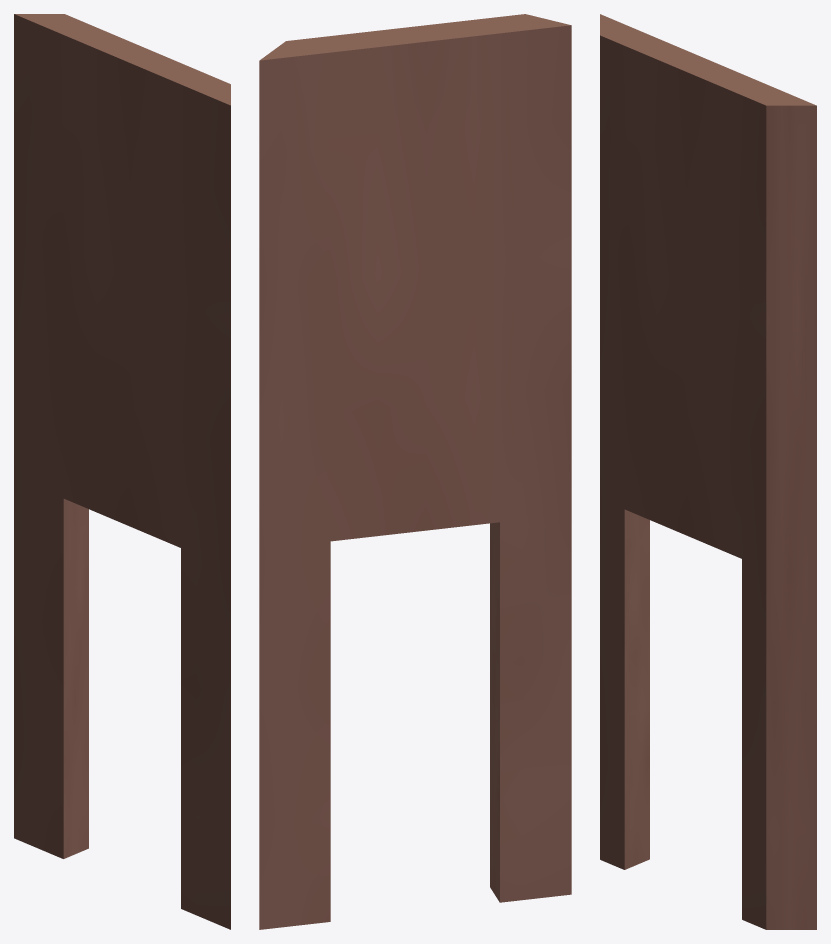
File: SM_Pub_Wall_DoorFrame.fbx
The picture shows the model from 3 angles, left to right: view 1: azimuth 90°, elevation 25°; view 2: azimuth 150°, elevation 25°; view 3: azimuth 270°, elevation 25°; orthographic projection. The views are drawn at different scales.
Parts seen in each view (by area): view 1: SM_Pub_DoorFrame; view 2: SM_Pub_DoorFrame; view 3: SM_Pub_DoorFrame.
Part boxes in pixels (bbox=[...]): SM_Pub_DoorFrame: bbox=[14, 14, 230, 929]; SM_Pub_DoorFrame: bbox=[259, 14, 571, 929]; SM_Pub_DoorFrame: bbox=[600, 14, 816, 929].
Size of the model in its own units: 109 by 456 by 109.
